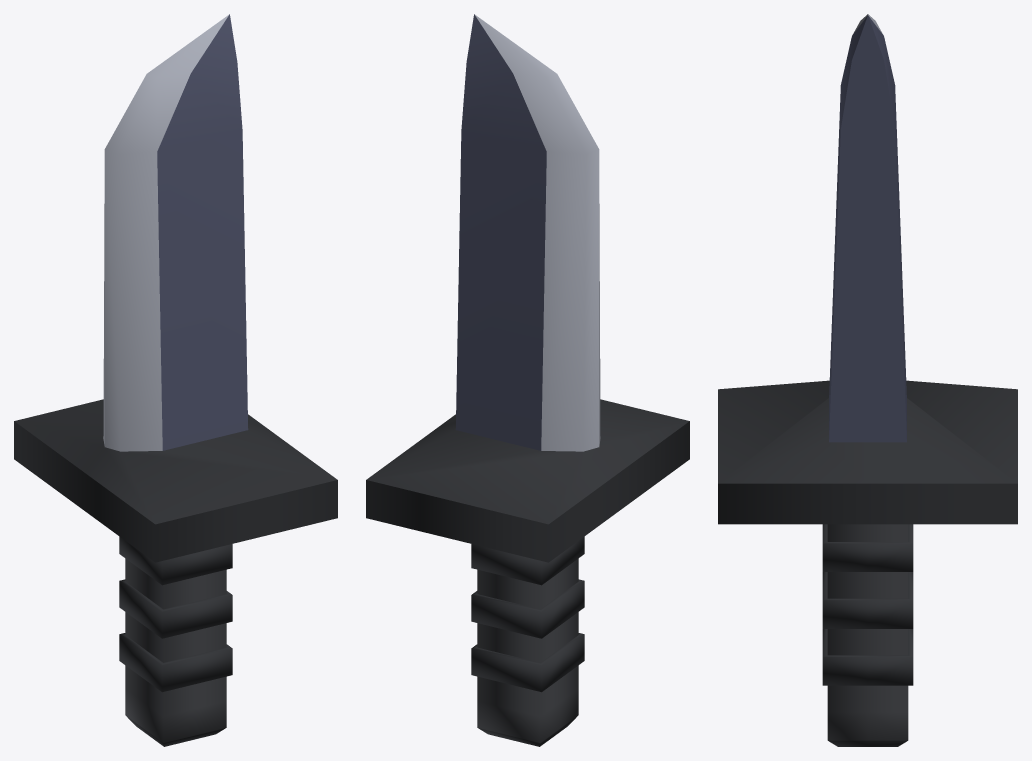
Rendered from Knife.fbx.
3 views of the same model, side by side, from view 1: azimuth 30°, elevation 25°; view 2: azimuth 150°, elevation 25°; view 3: azimuth 270°, elevation 25° (orthographic). The views are drawn at different scales.
Parts seen in each view (by area): view 1: Cube; view 2: Cube; view 3: Cube.
Boxes of the visible parts, <box> form: Cube: <box>14,14,337,746</box>; Cube: <box>366,14,689,746</box>; Cube: <box>718,14,1017,746</box>.
Bounding box in the file's own units: 28.95 × 107 × 38.78.
